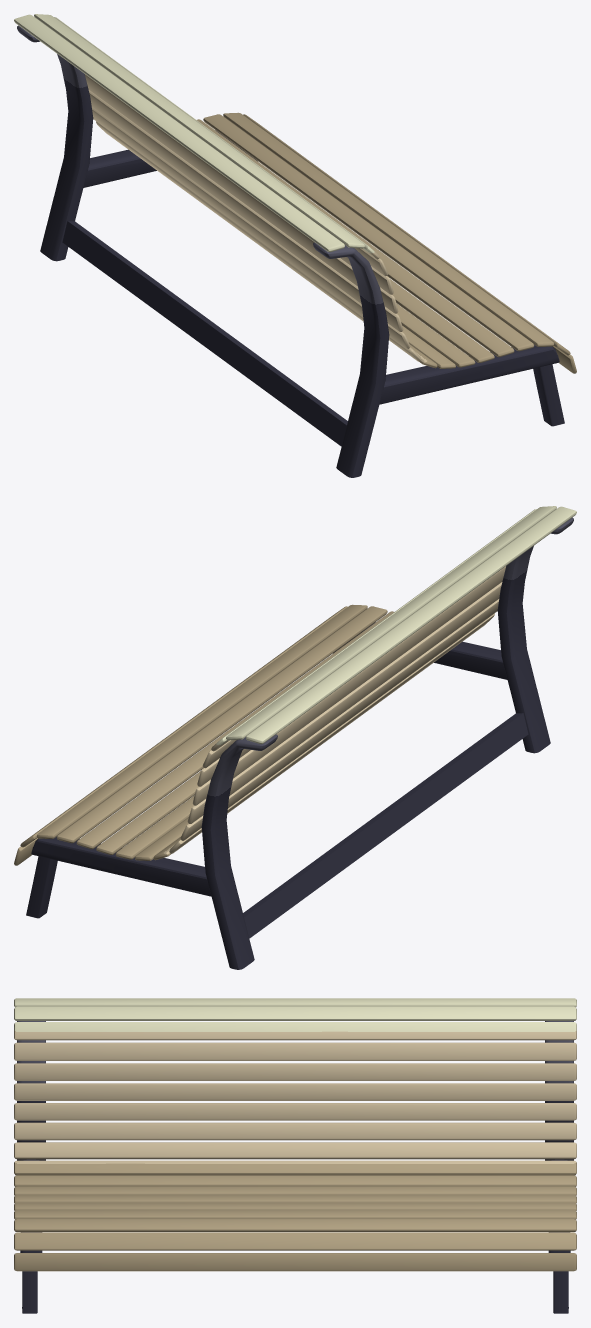
File: banco.fbx
3 views of the same model, one above another, from view 1: azimuth 30°, elevation 25°; view 2: azimuth 150°, elevation 25°; view 3: azimuth 270°, elevation 25° (orthographic). The views are drawn at different scales.
Visible parts, largest first — view 1: banco; view 2: banco; view 3: banco.
Boxes of the visible parts, left/top/right/bottom form: banco: left=14, top=14, right=576, bottom=477; banco: left=14, top=506, right=576, bottom=969; banco: left=14, top=998, right=576, bottom=1313.
Size of the model in its own units: 200 by 182 by 439.
